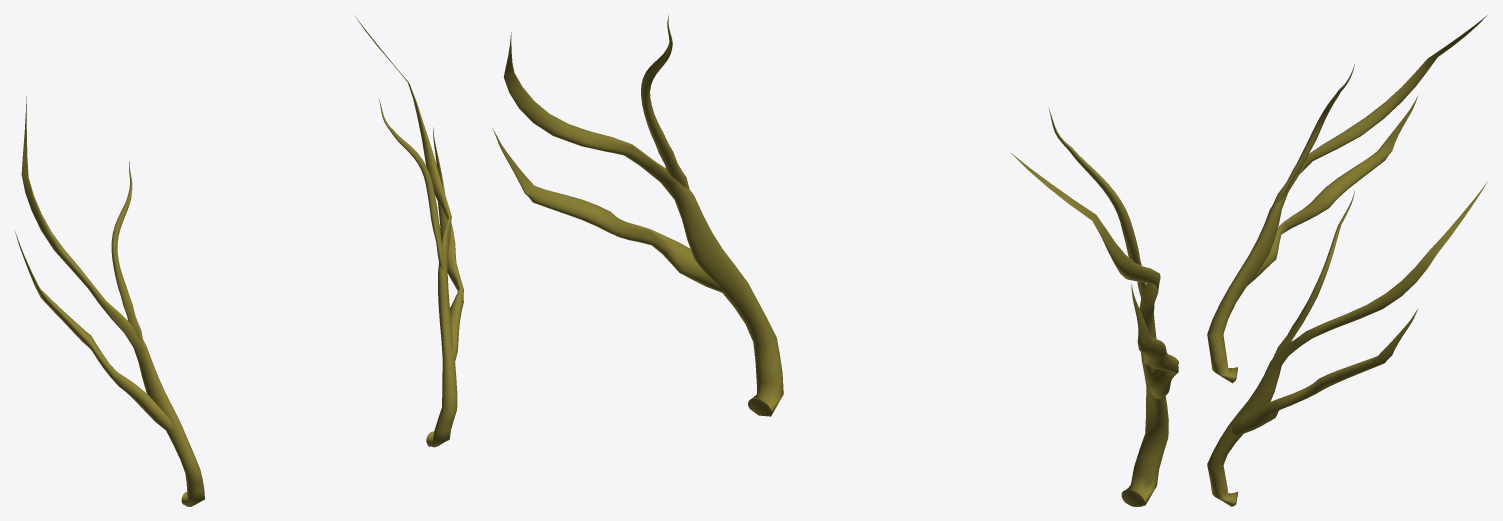
The model's file is Nervio_Supraorbitario.obj.
3 views of the same model, side by side, from view 1: azimuth 30°, elevation 25°; view 2: azimuth 150°, elevation 25°; view 3: azimuth 270°, elevation 25° (orthographic). The views are drawn at different scales.
Visible parts, largest first — view 1: Nervio_Supraorbitario; view 2: Nervio_Supraorbitario; view 3: Nervio_Supraorbitario.
Boxes of the visible parts, box(x1,y1,x2,y2) form: Nervio_Supraorbitario: box(15, 15, 463, 506); Nervio_Supraorbitario: box(492, 16, 1178, 506); Nervio_Supraorbitario: box(1207, 15, 1487, 506).
Bounding box in the file's own units: 0.4417 × 0.335 × 0.2466.
